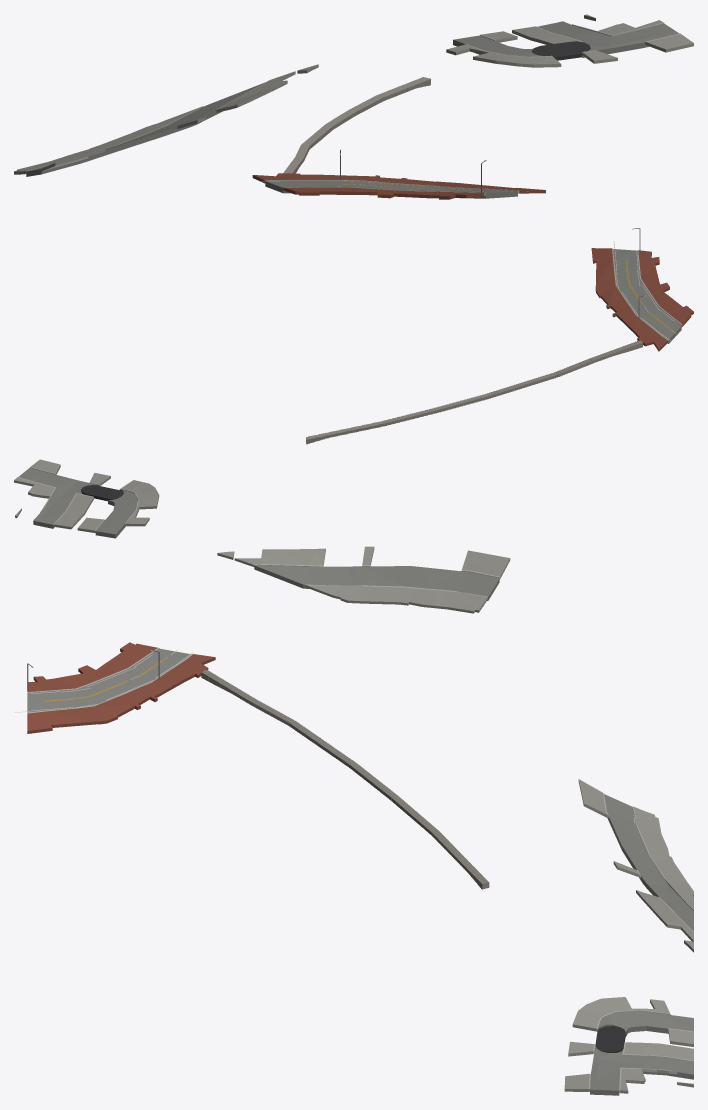
The picture shows the model from 3 angles, top to bottom: view 1: azimuth 30°, elevation 25°; view 2: azimuth 150°, elevation 25°; view 3: azimuth 270°, elevation 25°; orthographic projection. The views are drawn at different scales.
Size of the model in its own units: 148 by 52.89 by 149.
